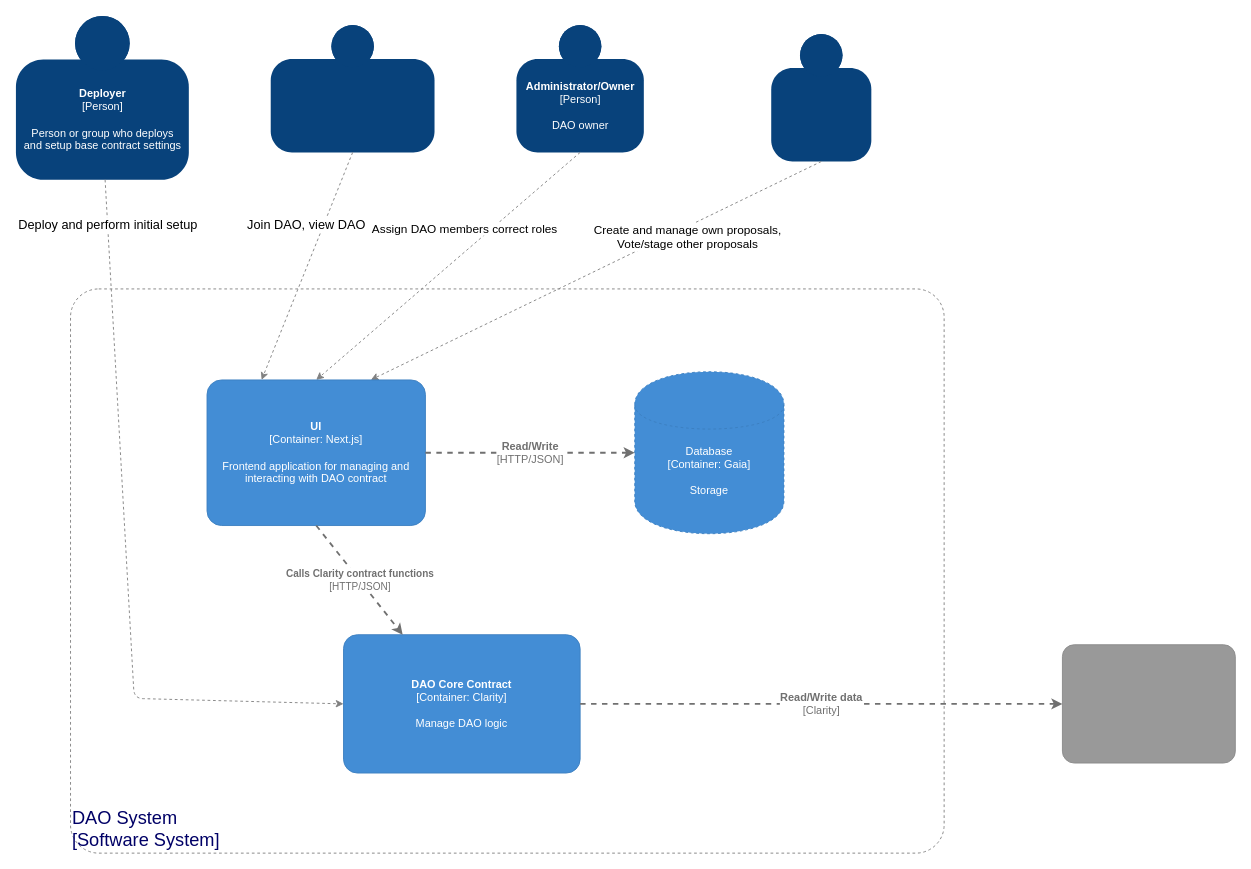
The diagram is 1251 pixels wide and 869 high, and some of its shapes have lost their labels. Each missing label, with the box of its shape:
Member [Person] DAO Member: (771, 34, 871, 161)
Public user [Person] Person who is not a member of DAO or is not logged in.: (270, 25, 434, 152)
Stacks Ecosystem [Software System] Store contracts, validating data transaction: (1062, 644, 1235, 763)
